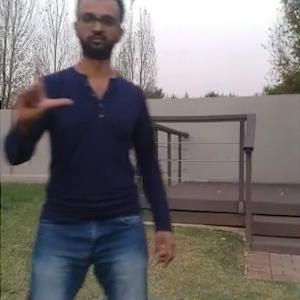land_hand: (12, 48, 73, 128)
